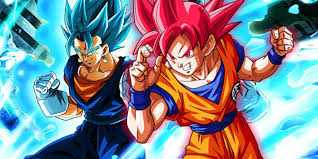Songoku: (143, 6, 225, 75)
Vegito: (63, 1, 127, 68)
